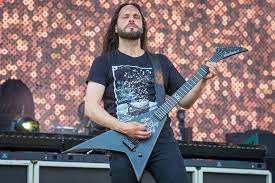acousticguitar: (62, 44, 247, 182)
